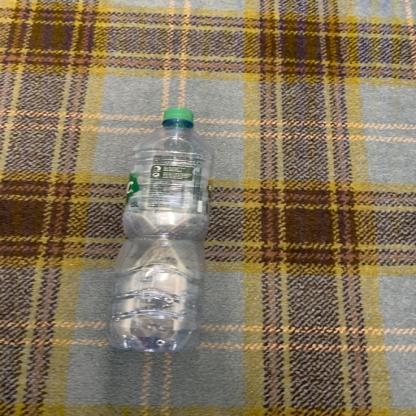trash: (106, 106, 222, 356)
